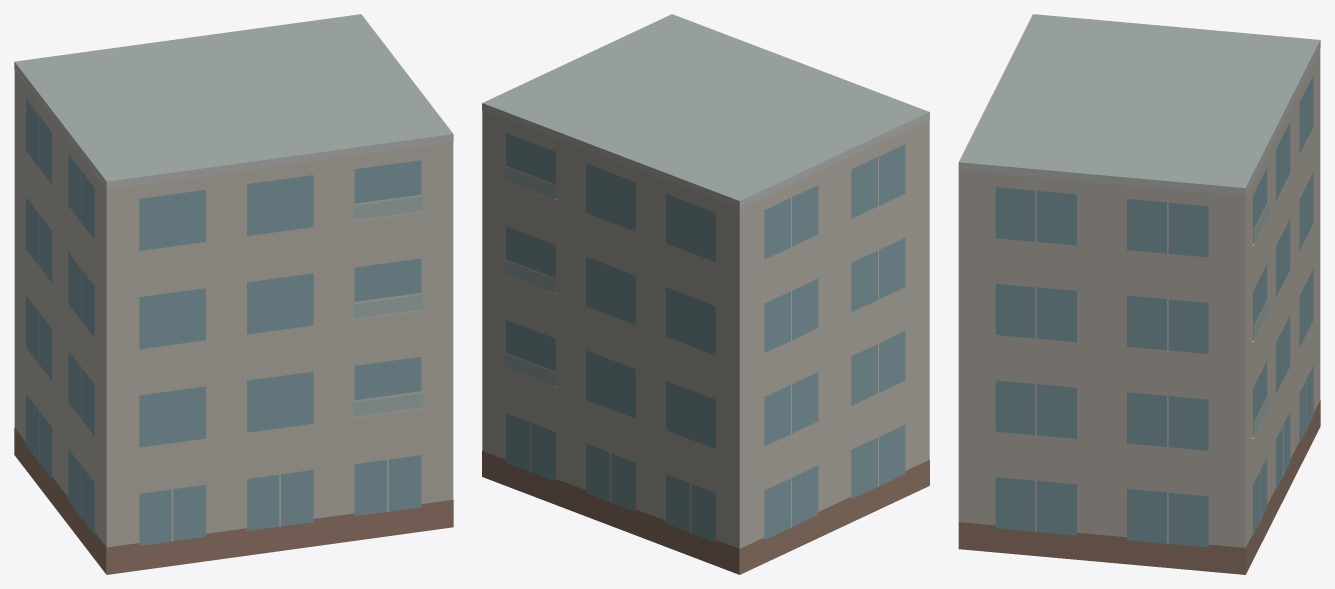
The model's file is residential-89cf1092-0394-4076-b7d3-a69d5587b87c.glb.
3 renders of one model, left to right at view 1: azimuth 30°, elevation 25°; view 2: azimuth 150°, elevation 25°; view 3: azimuth 270°, elevation 25°, orthographic. The views are drawn at different scales.
Parts seen in each view (by area): view 1: residential-89cf1092-0394-4076-b7d3-a69d5587b87c.tmp; view 2: residential-89cf1092-0394-4076-b7d3-a69d5587b87c.tmp; view 3: residential-89cf1092-0394-4076-b7d3-a69d5587b87c.tmp.
Part boxes in pixels (bbox=[...]): residential-89cf1092-0394-4076-b7d3-a69d5587b87c.tmp: bbox=[14, 14, 453, 574]; residential-89cf1092-0394-4076-b7d3-a69d5587b87c.tmp: bbox=[482, 14, 929, 574]; residential-89cf1092-0394-4076-b7d3-a69d5587b87c.tmp: bbox=[958, 14, 1320, 574].
Bounding box in the file's own units: 11.79 × 12.2 × 10.35.
